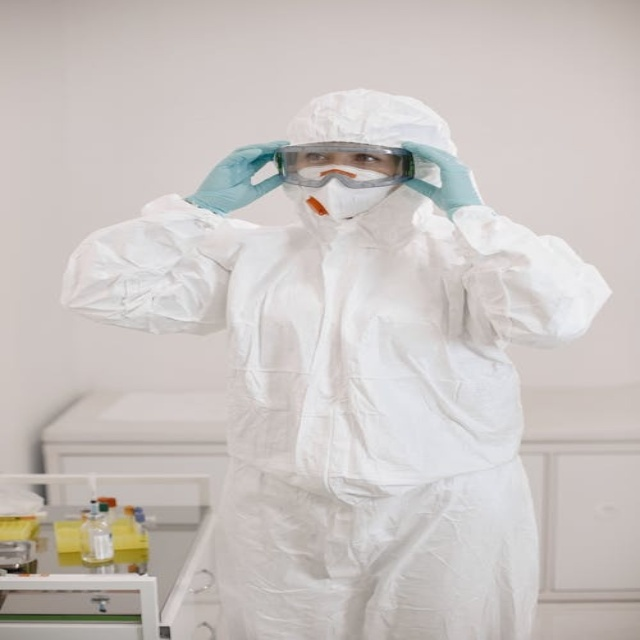Gafas: (276, 144, 413, 189)
Guantes: (184, 140, 292, 217), (397, 140, 487, 218)
Mascara: (286, 163, 404, 220)
